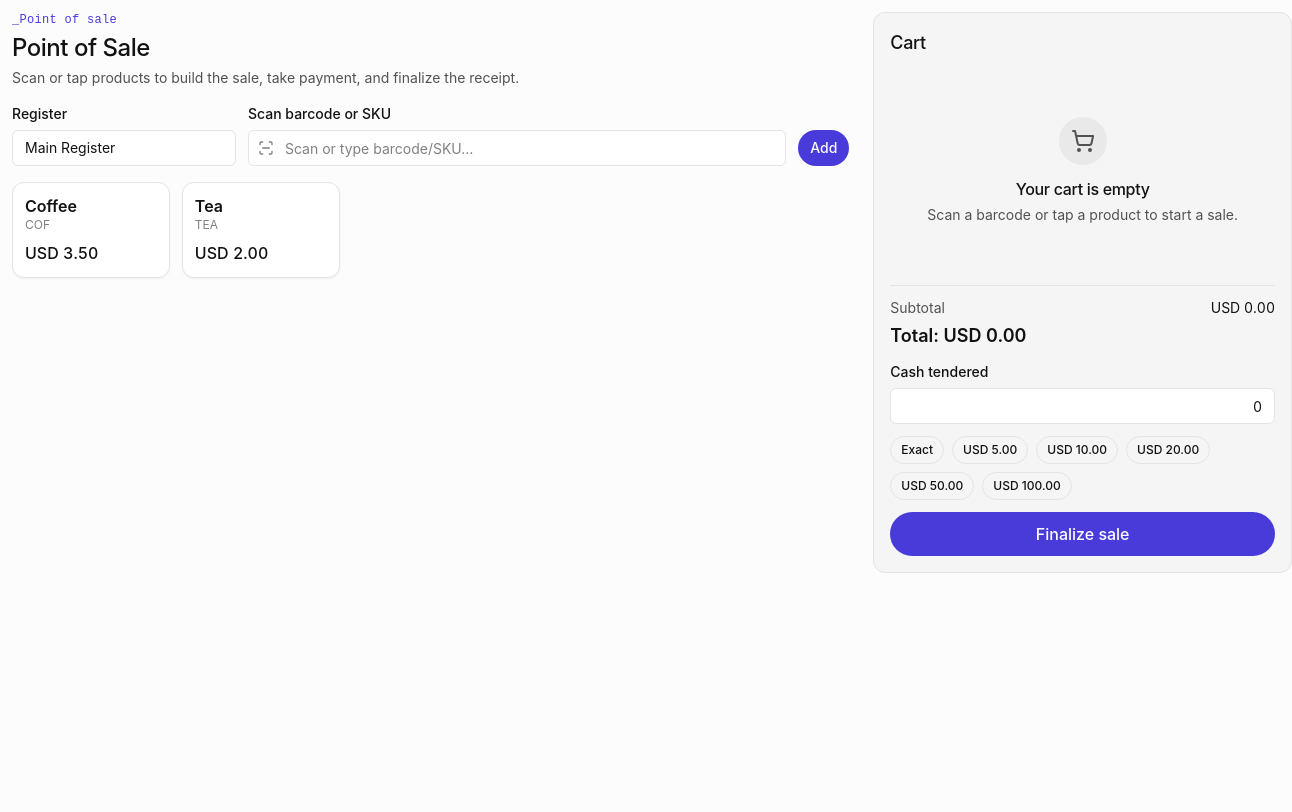
Test case: POSPage › guards finalize when the cart is empty
Expected: the button "Coffee COF USD 3.50" is shown, [12, 182, 170, 278]
Click the button "Finalize sale" at (1083, 534), box [890, 512, 1275, 556]
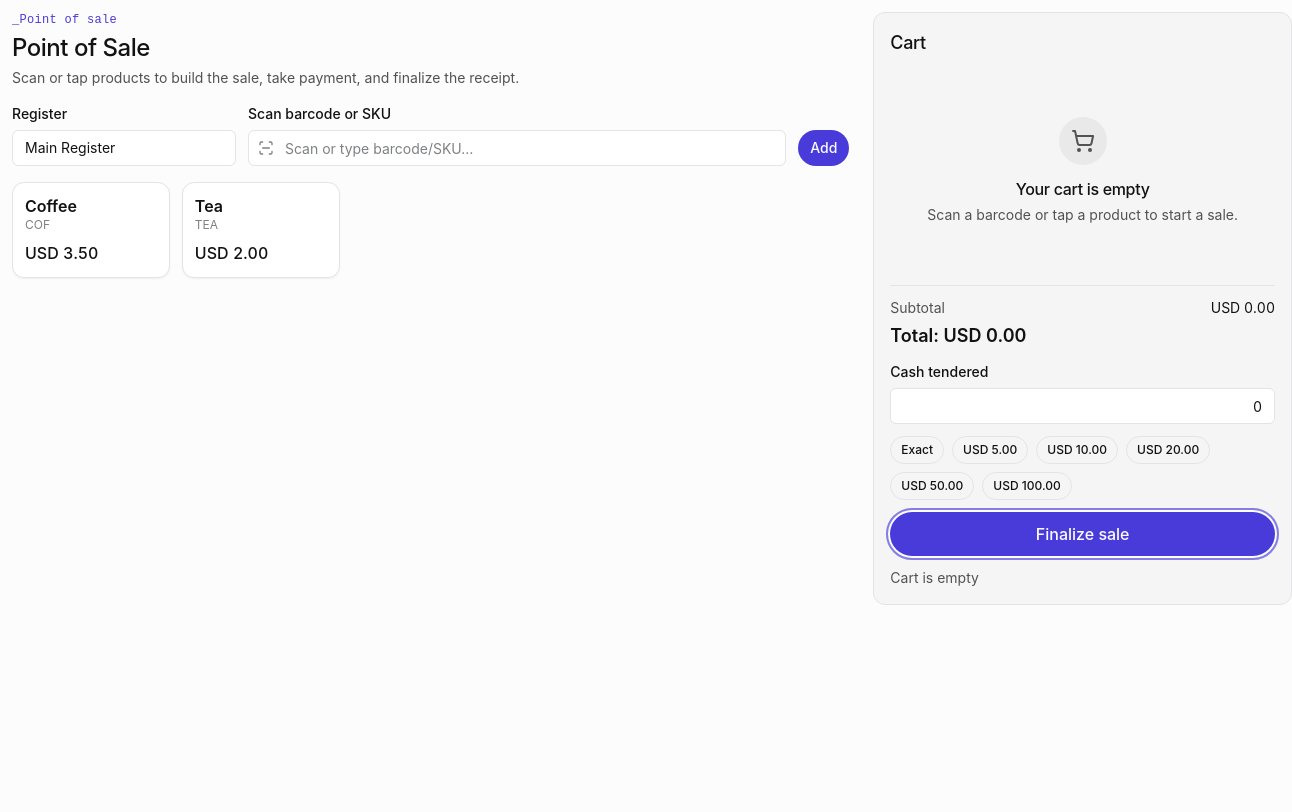
Expected: the text "Cart is empty" is shown, [890, 569, 979, 586]
